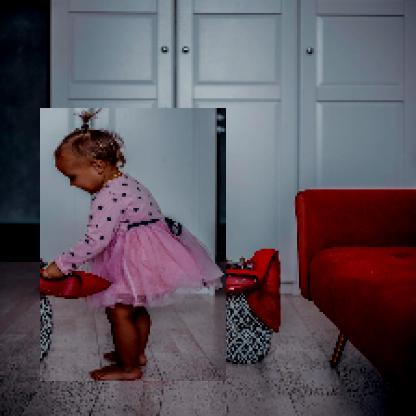child: (41, 109, 228, 383)
